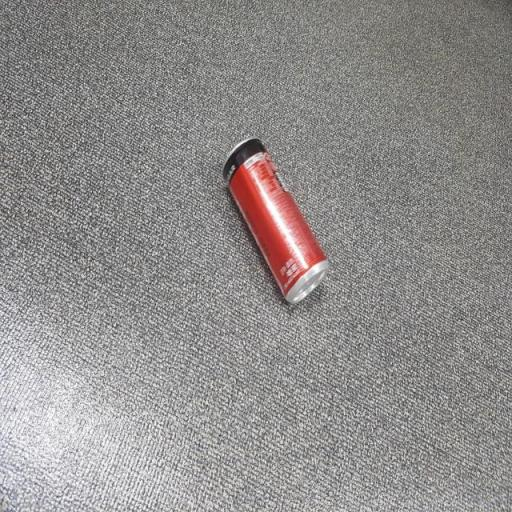metal: (217, 123, 335, 329)
